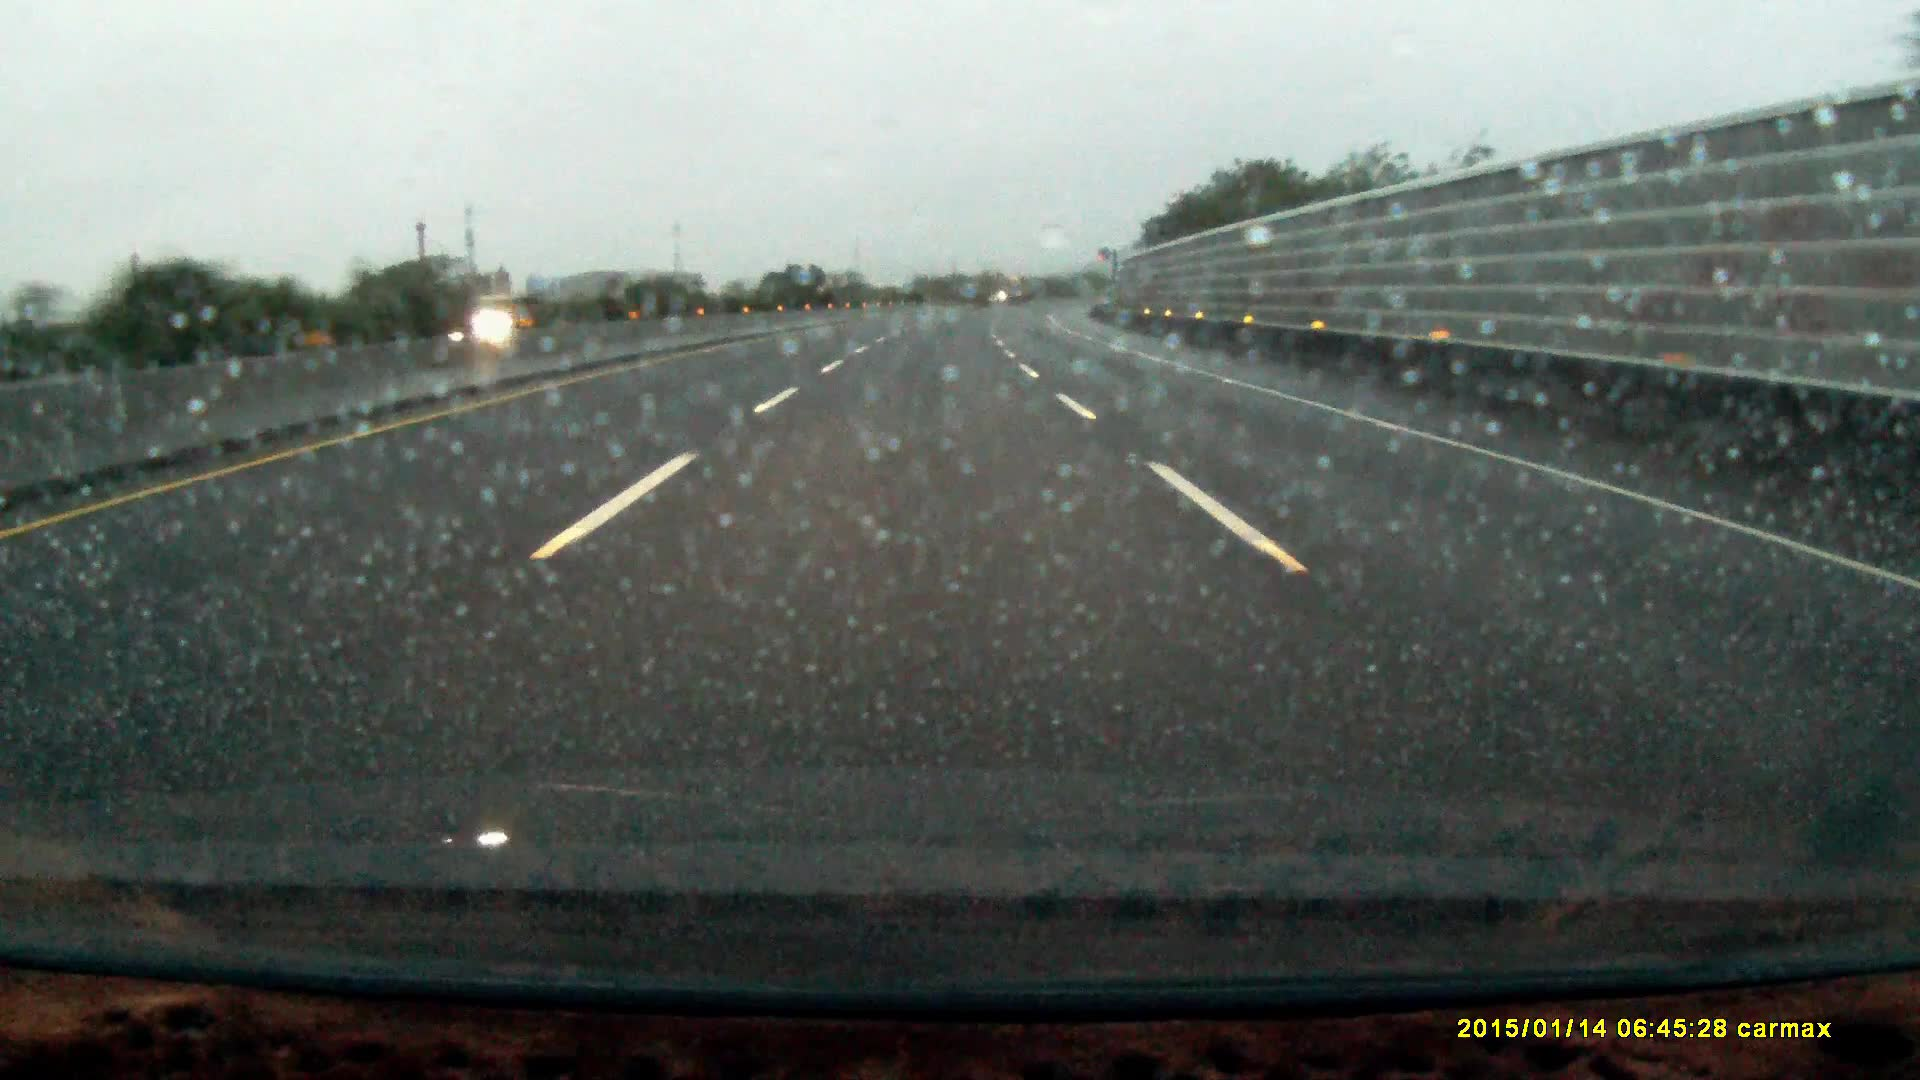vehicle: (410, 309, 496, 342)
